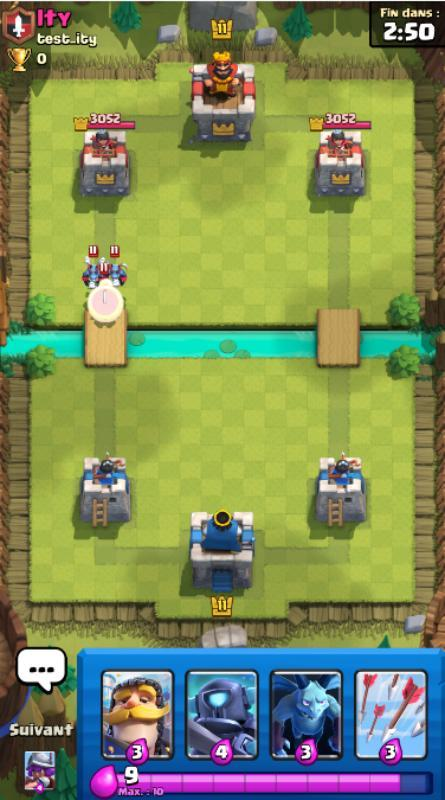gargouille: (82, 245, 107, 289), (103, 245, 127, 286)
